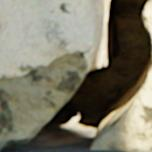brick: (0, 0, 92, 77), (10, 147, 151, 151)
crack: (0, 0, 151, 151)
